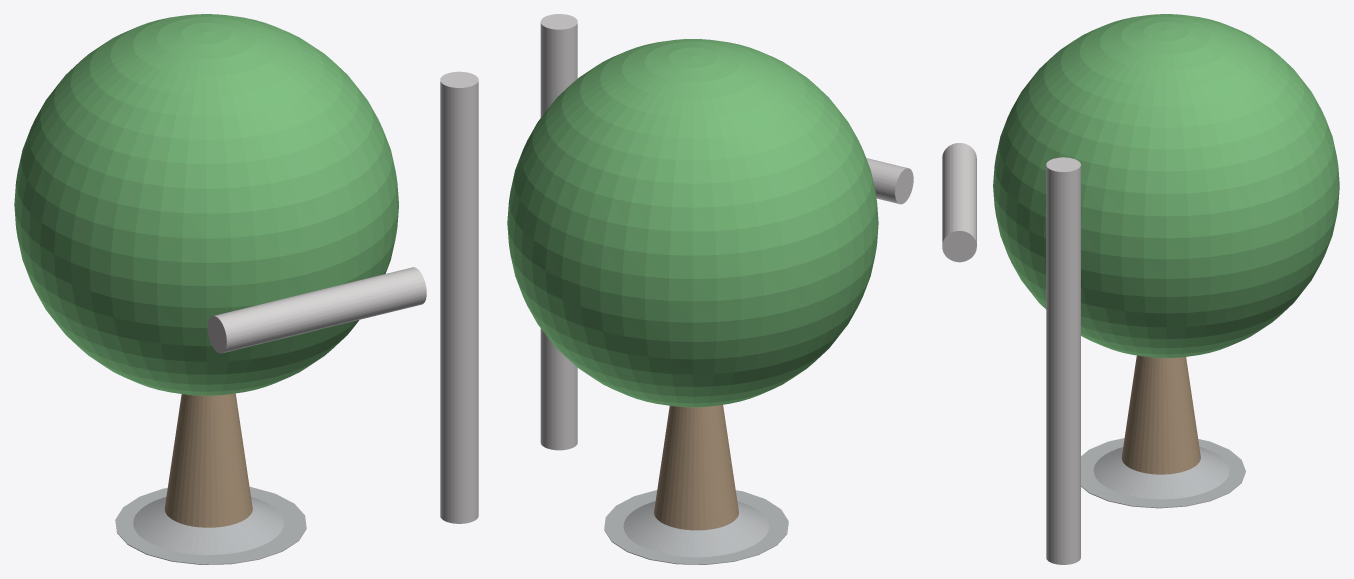
Rendered from MainSphereTreeGreen.glb.
The picture shows the model from 3 angles, left to right: view 1: azimuth 30°, elevation 25°; view 2: azimuth 150°, elevation 25°; view 3: azimuth 270°, elevation 25°; orthographic projection. The views are drawn at different scales.
Parts seen in each view (by area): view 1: Mesh_Mesh_head_geo.001_lambert2SG.001; view 2: Mesh_Mesh_head_geo.001_lambert2SG.001; view 3: Mesh_Mesh_head_geo.001_lambert2SG.001.
Part boxes in pixels (x1,y1,x2,y2): Mesh_Mesh_head_geo.001_lambert2SG.001: [14, 14, 478, 564]; Mesh_Mesh_head_geo.001_lambert2SG.001: [507, 14, 913, 564]; Mesh_Mesh_head_geo.001_lambert2SG.001: [942, 14, 1339, 564].
Size of the model in its own units: 5.68 by 7.02 by 5.73.
